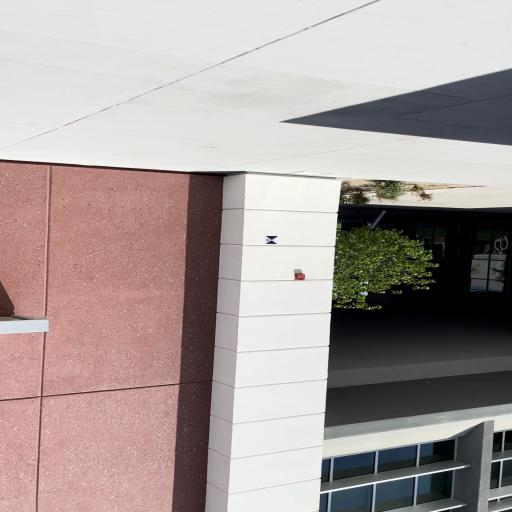target6: (264, 236, 277, 244)
